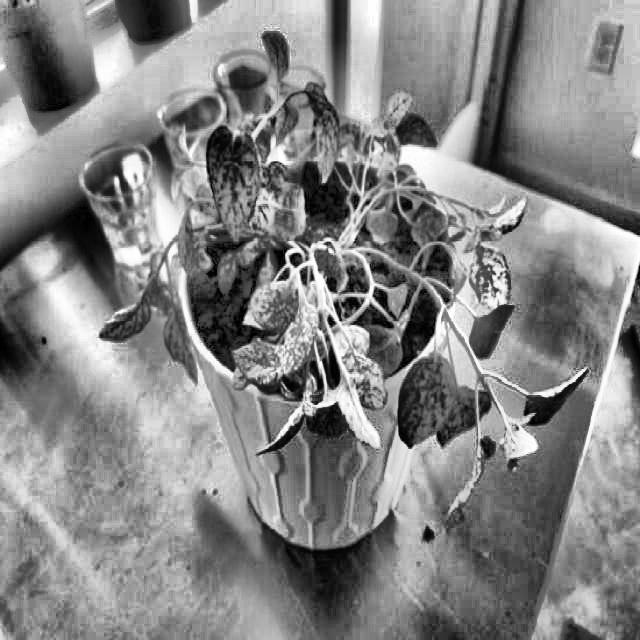plants: (110, 84, 588, 547)
